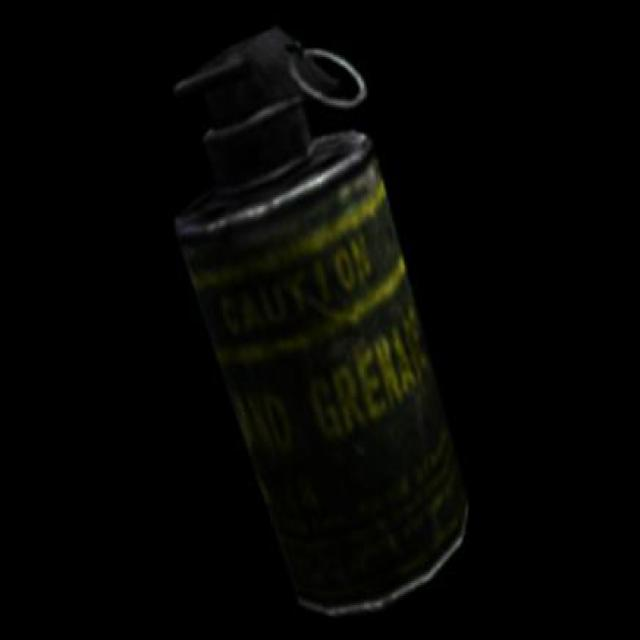grenade: (171, 27, 469, 617)
